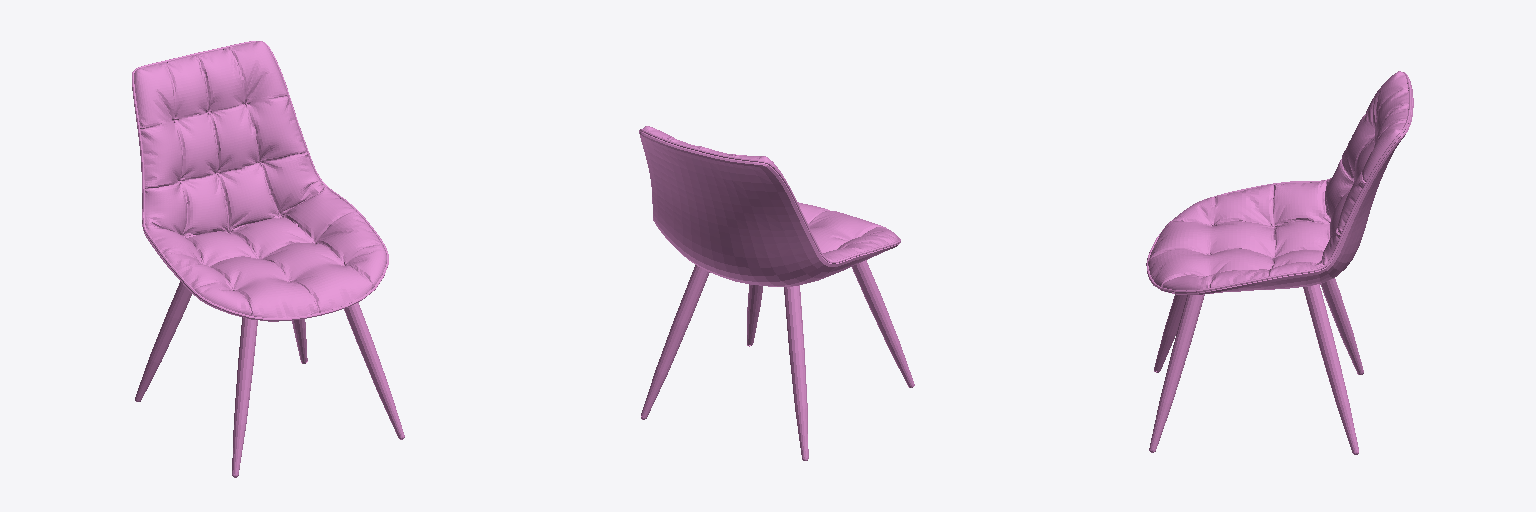
File: Rudolf_Castle_Line.obj
The picture shows the model from 3 angles: view 1: azimuth 30°, elevation 25°; view 2: azimuth 150°, elevation 25°; view 3: azimuth 270°, elevation 25°; orthographic projection.
Parts seen in each view (by area): view 1: Rudolf_Castle_Line; view 2: Rudolf_Castle_Line; view 3: Rudolf_Castle_Line.
Part boxes in pixels (left/top/right/bottom): Rudolf_Castle_Line: left=132, top=41, right=404, bottom=477; Rudolf_Castle_Line: left=639, top=126, right=914, bottom=460; Rudolf_Castle_Line: left=1146, top=71, right=1413, bottom=454.
Size of the model in its own units: 51.51 by 79.21 by 61.22.